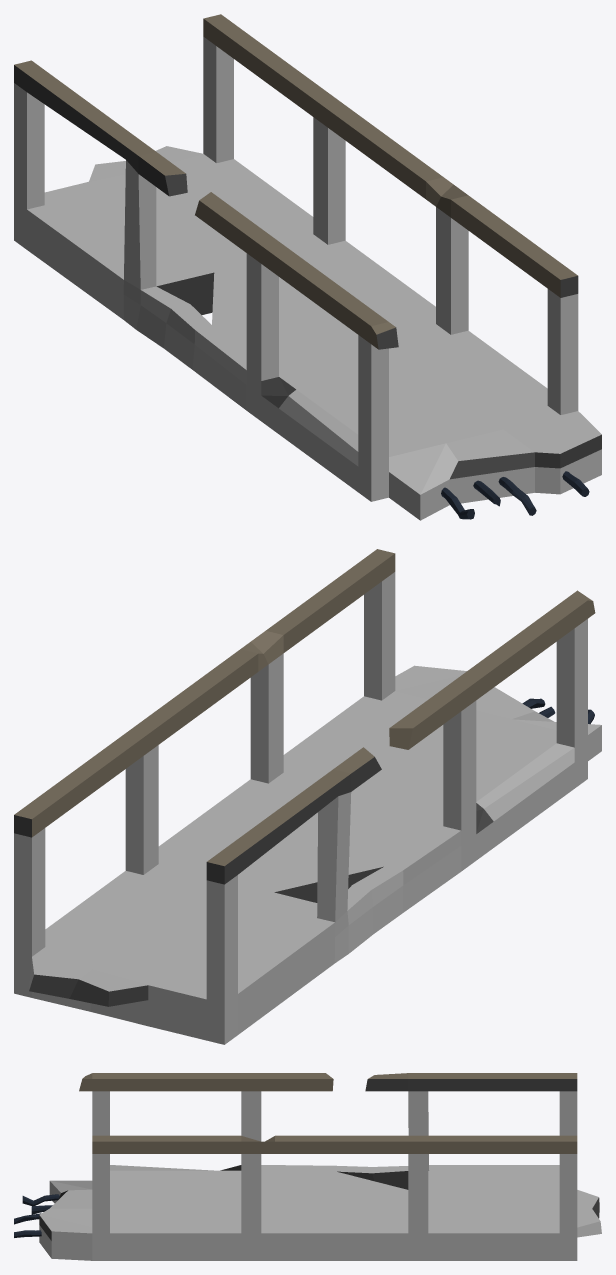
File: bridge.fbx
3 views of the same model, one above another, from view 1: azimuth 30°, elevation 25°; view 2: azimuth 150°, elevation 25°; view 3: azimuth 270°, elevation 25° (orthographic). The views are drawn at different scales.
Visible parts, largest first — view 1: Cube; view 2: Cube; view 3: Cube.
Part boxes in pixels (<box>): Cube: <box>14,14,601,520</box>; Cube: <box>14,549,601,1044</box>; Cube: <box>14,1073,601,1260</box>.
Bounding box in the file's own units: 200 × 163 × 725.
